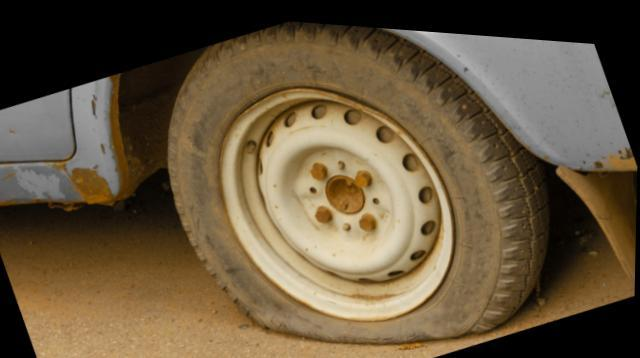tire flat: (165, 17, 547, 339)
